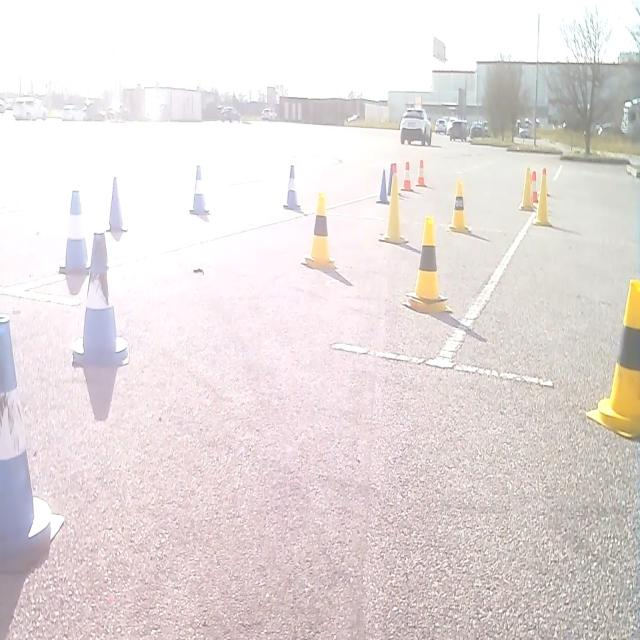blue_cone: (0, 318, 64, 575), (71, 230, 129, 368), (59, 188, 90, 273), (106, 175, 127, 235), (189, 163, 209, 216), (283, 163, 301, 211), (376, 168, 388, 204), (387, 161, 398, 195)
orange_cone: (401, 160, 412, 192), (416, 157, 426, 187), (530, 169, 538, 202)
yellow_cone: (585, 276, 639, 438), (405, 214, 452, 315), (304, 190, 336, 270), (378, 171, 408, 245), (447, 178, 471, 234), (532, 166, 552, 226), (518, 165, 535, 211)
